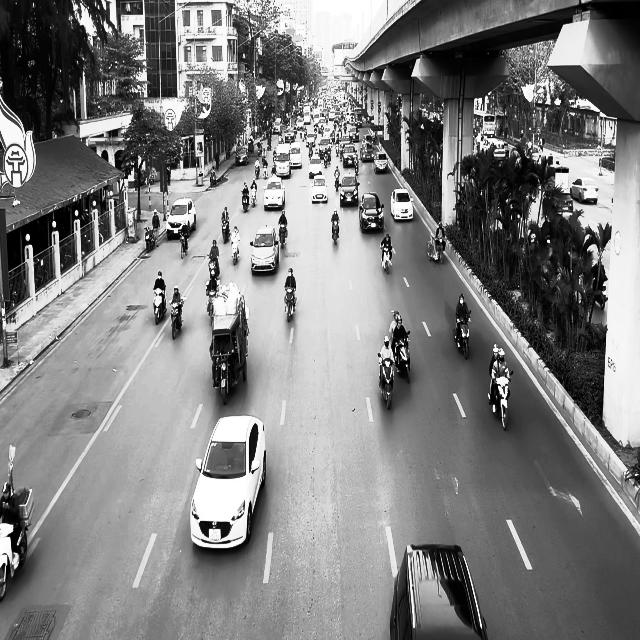car: (190, 414, 266, 551), (389, 543, 489, 639), (250, 225, 279, 274), (166, 197, 196, 240), (543, 186, 573, 222), (359, 193, 384, 232), (570, 176, 599, 204), (391, 188, 414, 220), (263, 177, 285, 210), (340, 174, 359, 206), (310, 174, 328, 203), (374, 152, 388, 173), (235, 146, 249, 166)
motorbike: (490, 370, 513, 430), (378, 352, 395, 409), (393, 330, 411, 382), (453, 309, 471, 359), (170, 296, 186, 339), (428, 234, 446, 263), (152, 288, 166, 324), (284, 286, 296, 322), (380, 244, 392, 274), (144, 226, 155, 252), (221, 217, 230, 243), (231, 239, 240, 265), (179, 232, 188, 258), (278, 223, 287, 248), (332, 219, 339, 245), (250, 185, 257, 207), (242, 192, 249, 212)
truck: (209, 281, 249, 405)
